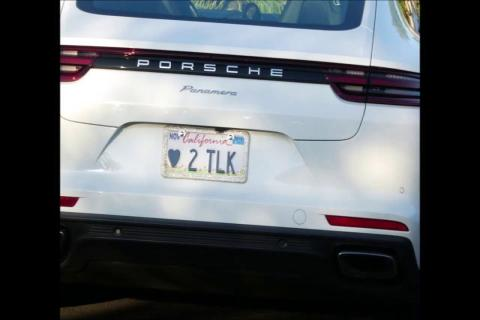LicensePlate: (163, 125, 248, 185)
